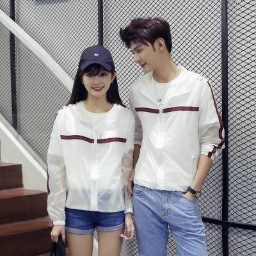face: (120, 16, 175, 73), (68, 59, 125, 108)
